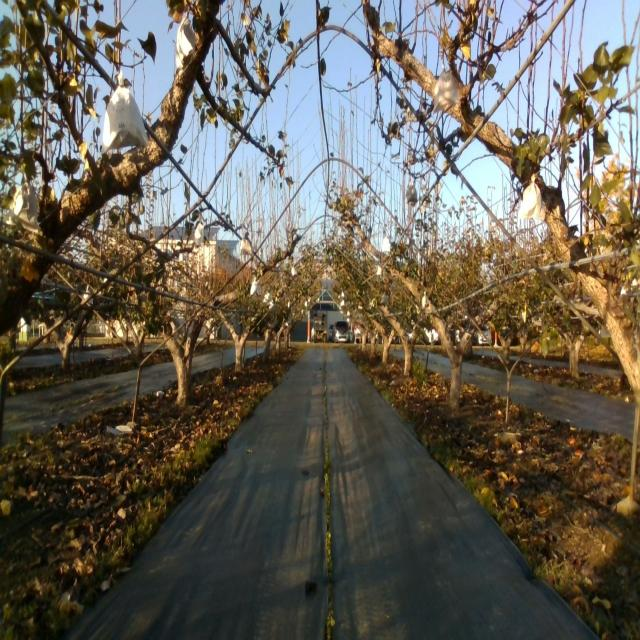pearbags: (102, 70, 147, 156), (5, 181, 40, 236), (519, 174, 546, 224), (433, 65, 460, 112), (175, 12, 194, 69), (406, 180, 418, 204), (240, 237, 253, 256)
